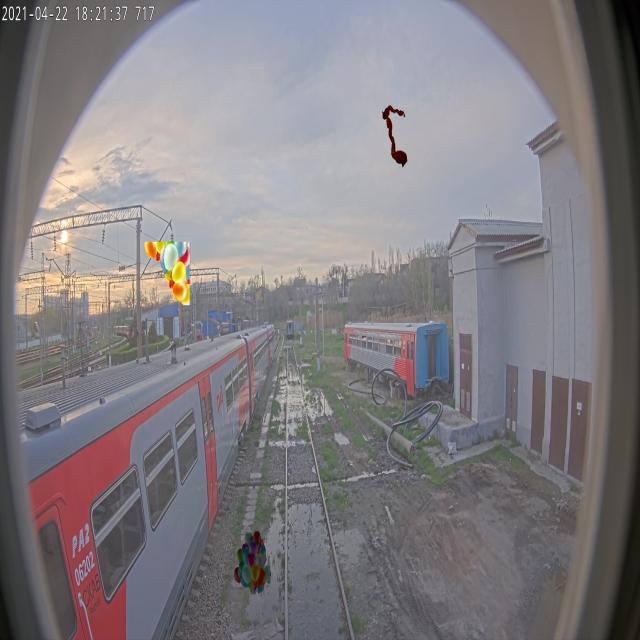balloon: (143, 241, 190, 305), (234, 530, 271, 594)
floating object: (382, 104, 407, 168)
